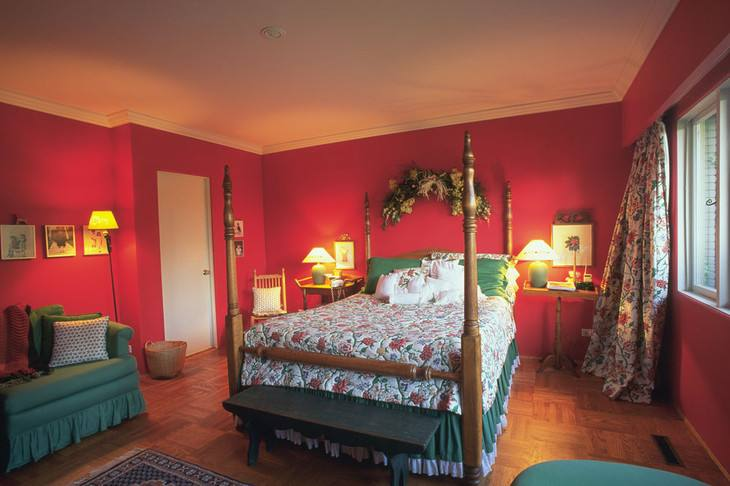床: (240, 291, 519, 466)
枕头: (370, 252, 511, 298)
灯: (515, 237, 557, 289), (85, 202, 117, 242), (303, 245, 330, 290), (260, 27, 288, 43)
